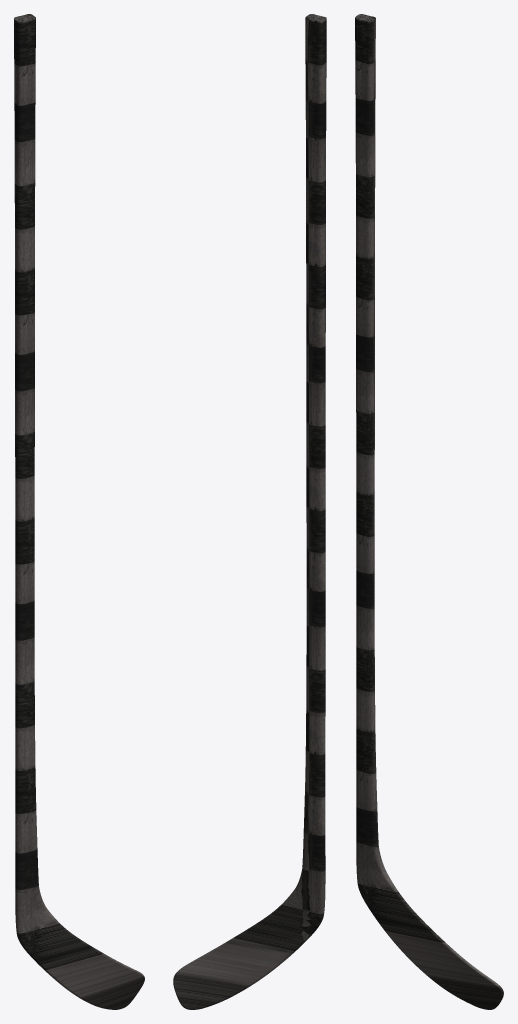
The model's file is P65-SBO.glb.
3 views of the same model, side by side, from view 1: azimuth 30°, elevation 25°; view 2: azimuth 150°, elevation 25°; view 3: azimuth 330°, elevation 25° (orthographic). The views are drawn at different scales.
Parts seen in each view (by area): view 1: geometry_0; view 2: geometry_0; view 3: geometry_0.
Boxes of the visible parts, x1,y1,x2,y2 form: geometry_0: [14, 14, 144, 1009]; geometry_0: [173, 14, 326, 1009]; geometry_0: [355, 14, 503, 1009].
Bounding box in the file's own units: 237 × 1650 × 58.52.
Materials: 1 (1 with a texture image).
